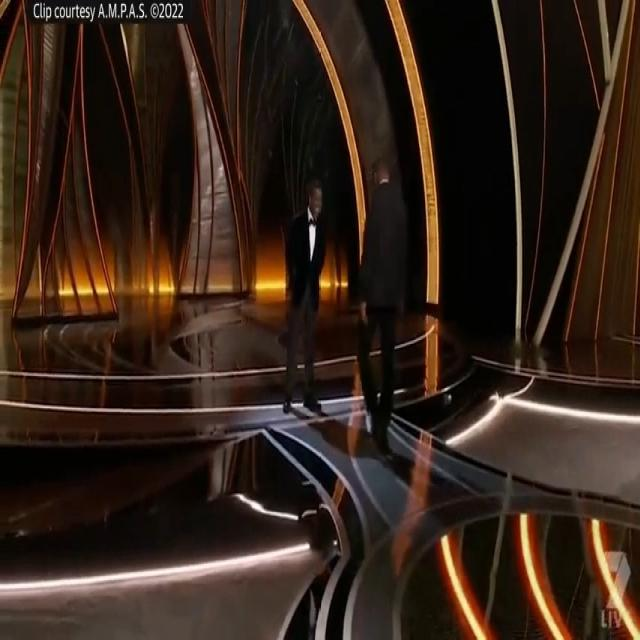non-fight: (271, 143, 436, 443)
